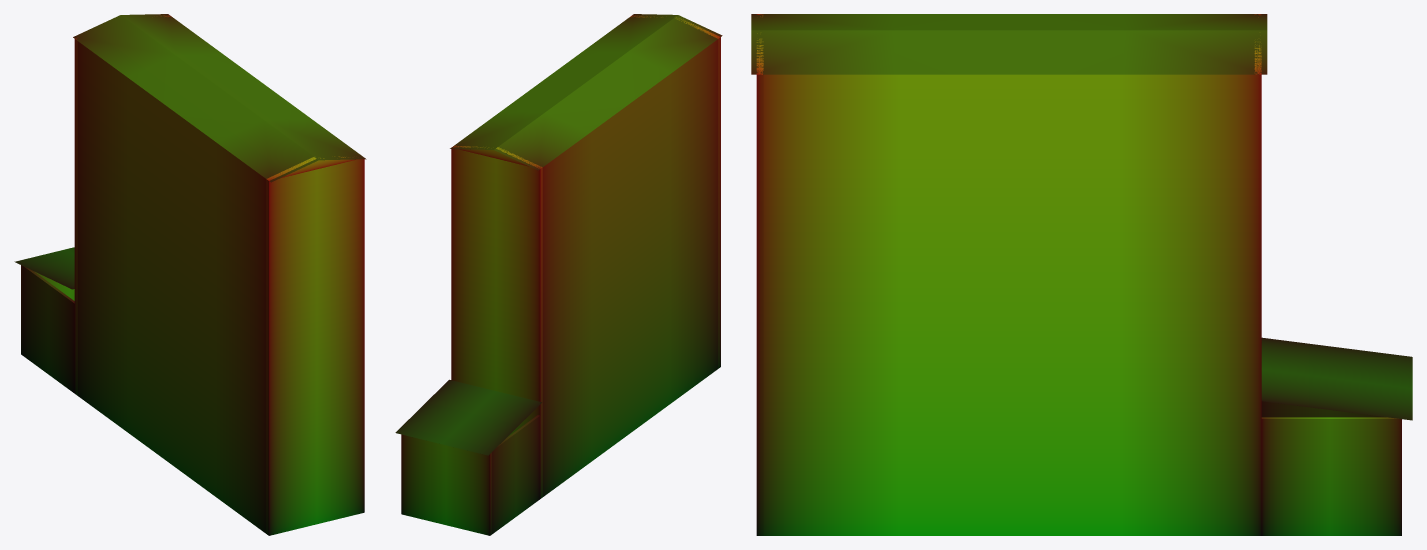
The model's file is nha_ong_cu_4x18.far.glb.
The picture shows the model from 3 angles, left to right: view 1: azimuth 30°, elevation 25°; view 2: azimuth 150°, elevation 25°; view 3: azimuth 270°, elevation 25°; orthographic projection. The views are drawn at different scales.
Visible parts, largest first — view 1: nha_ong_cu_4x18; view 2: nha_ong_cu_4x18; view 3: nha_ong_cu_4x18.
Part boxes in pixels (box(x1,y1,x2,y2)): nha_ong_cu_4x18: box(14, 14, 366, 535); nha_ong_cu_4x18: box(395, 14, 722, 535); nha_ong_cu_4x18: box(751, 14, 1412, 535).
Size of what is drawn, in the model's own units: 4.2 by 14.63 by 18.45.
